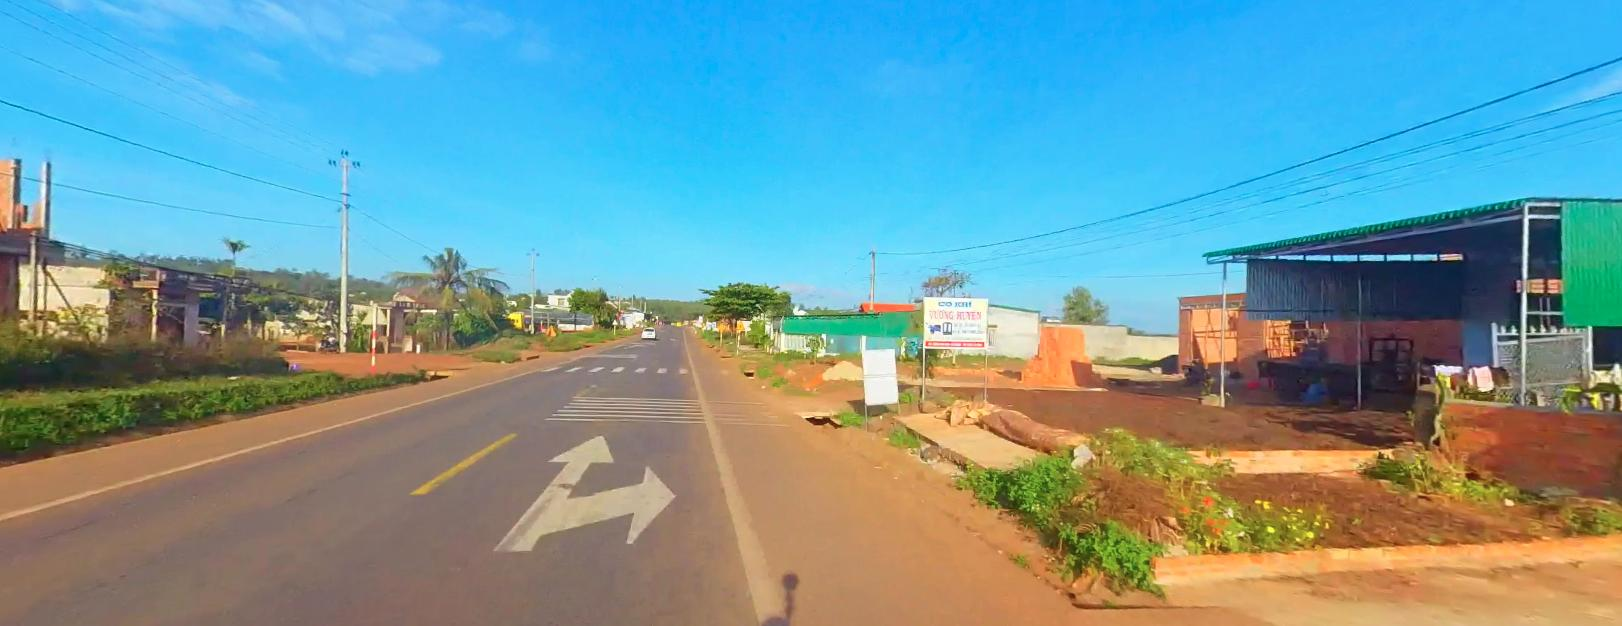Nguy hiem: (733, 319, 744, 328)
